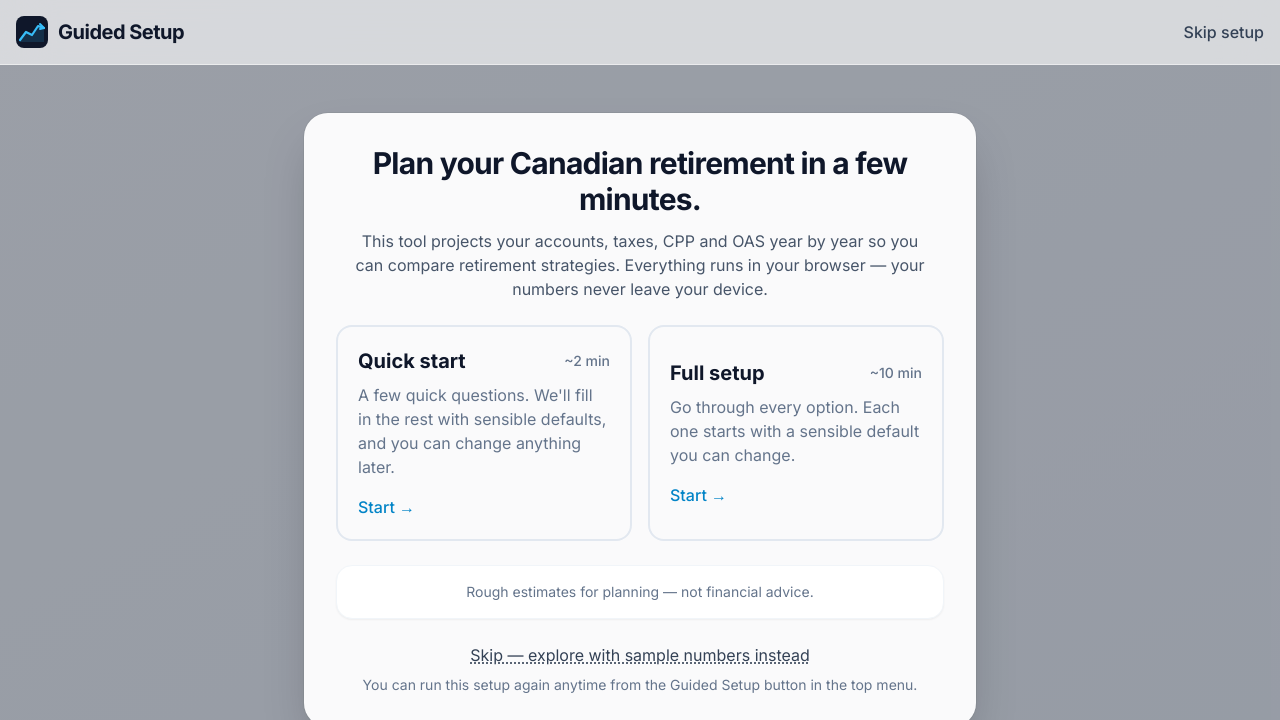
it: OnboardingFlow › raw validation: retirement age below current age shows the inline warning without clamping the input
The width and height of the screenshot is (1280, 720).
Click the button "Quick start" at (484, 433), box x1=336 y1=325 x2=632 y2=541
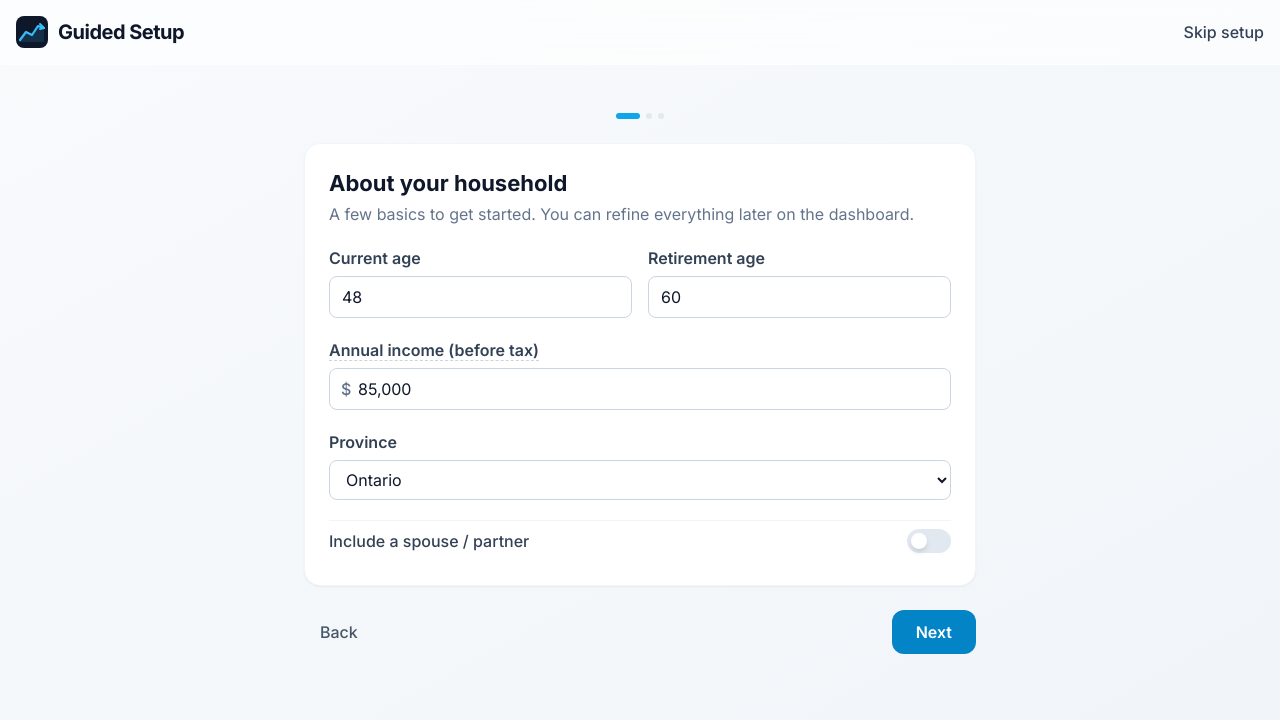
Replace the text in the field below "Current age" with "60" at (480, 297), box x1=329 y1=276 x2=632 y2=318
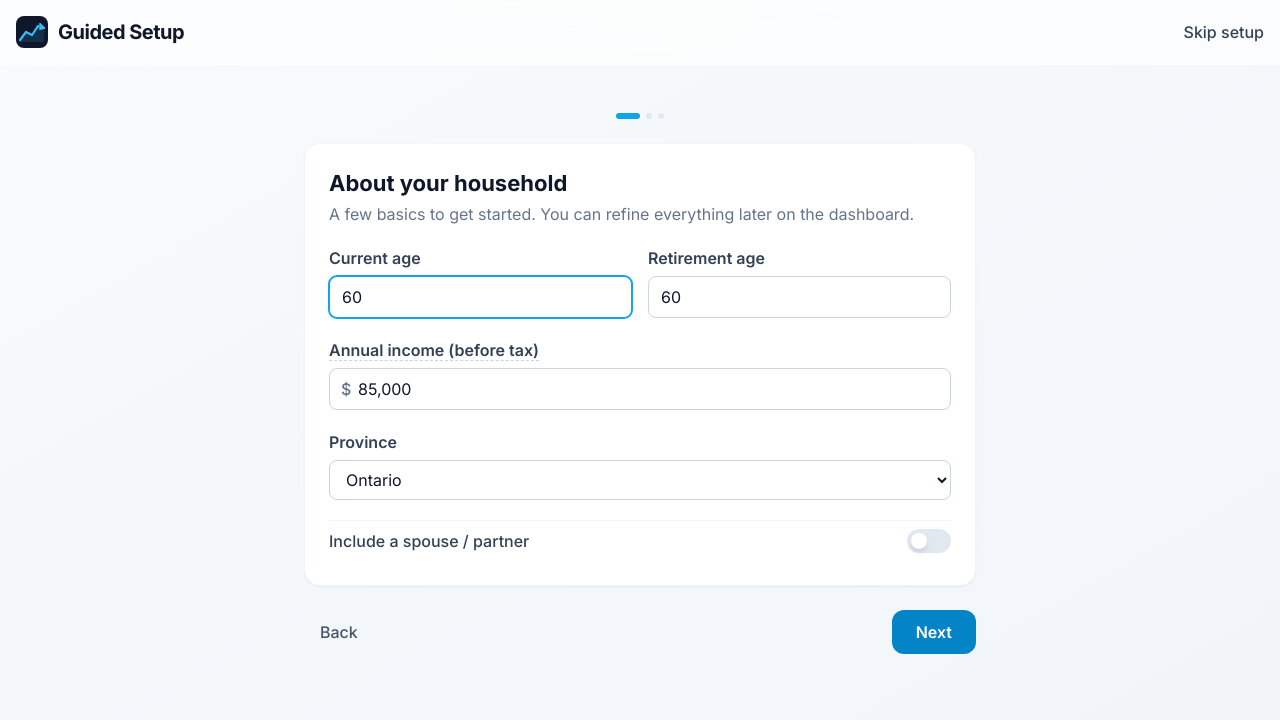
Press Tab
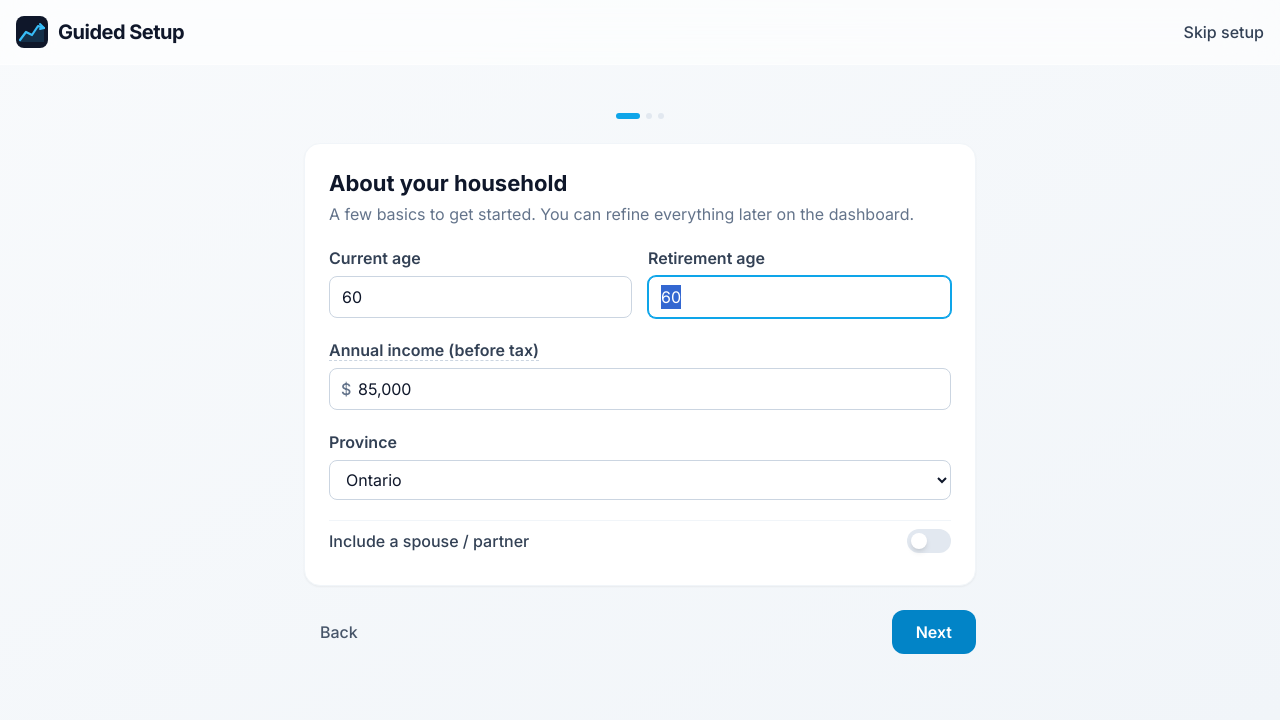
Replace the text in the field below "Retirement age" with "55" at (800, 297), box x1=648 y1=276 x2=951 y2=318
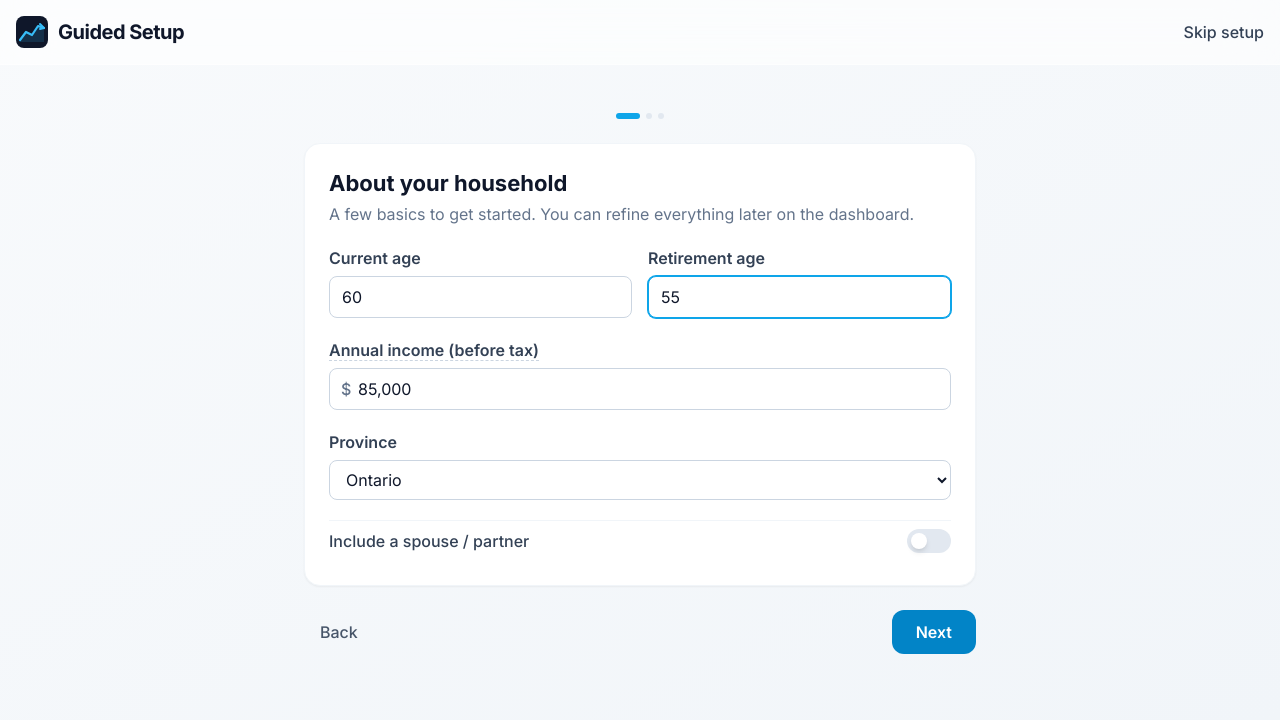
Press Tab
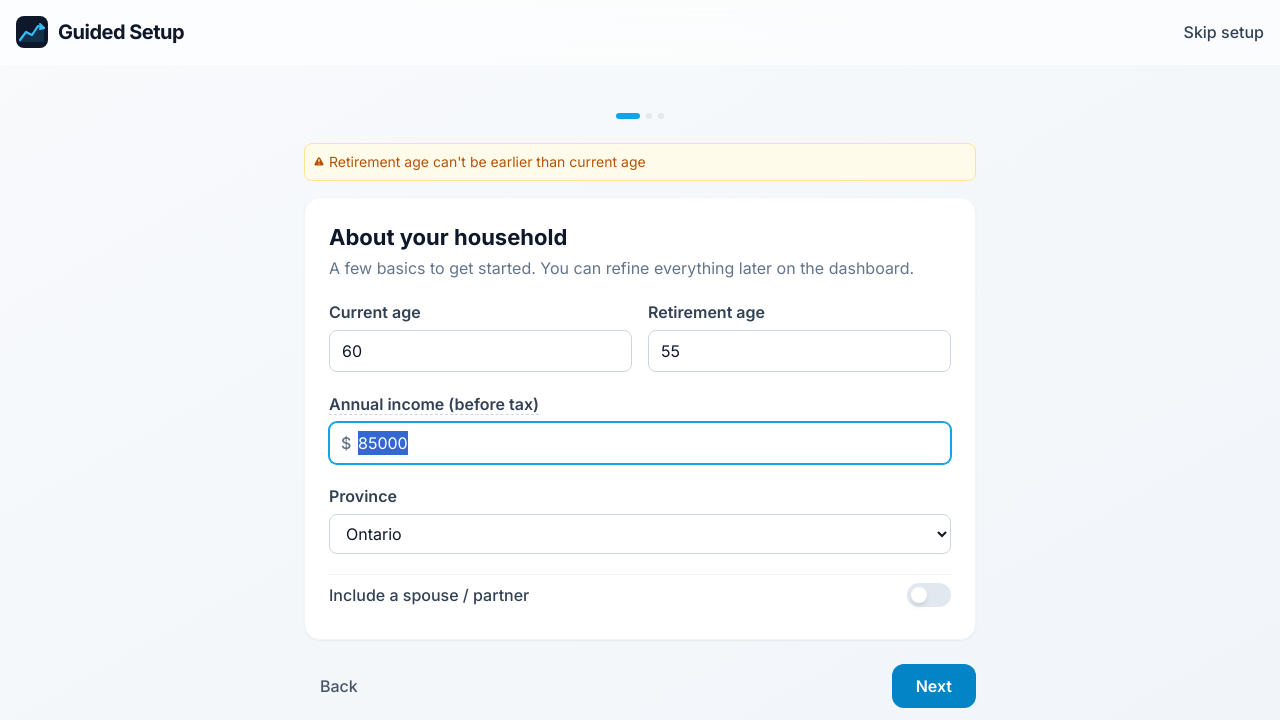
Result: the text "Retirement age can't be earlier than current age" is shown at x1=313 y1=153 x2=646 y2=170
